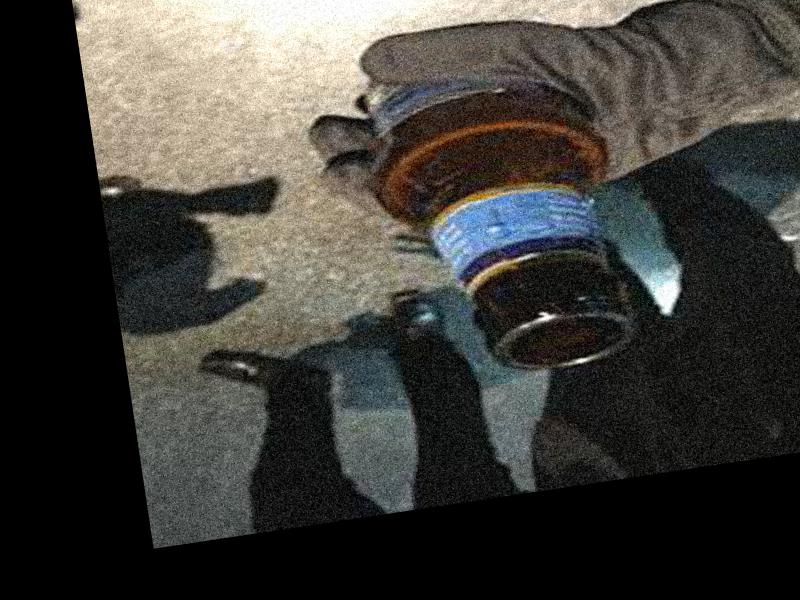Beer: (343, 25, 645, 393)
